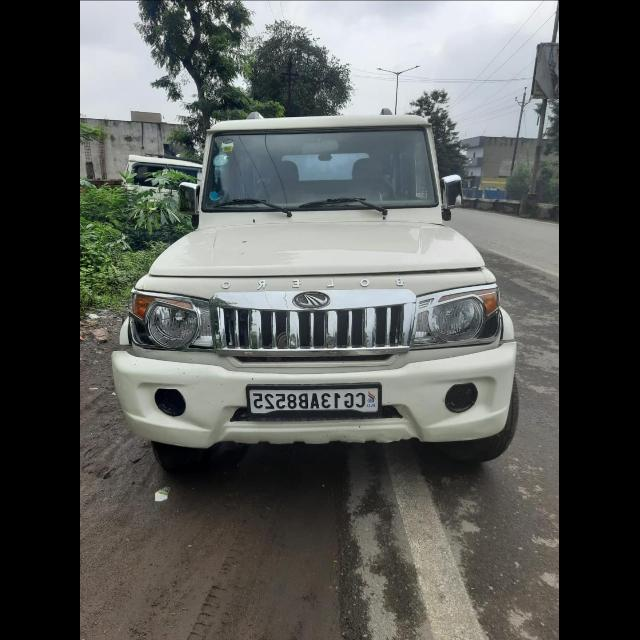number-plate: (249, 387, 379, 412)
vehicles: (115, 110, 539, 471)
